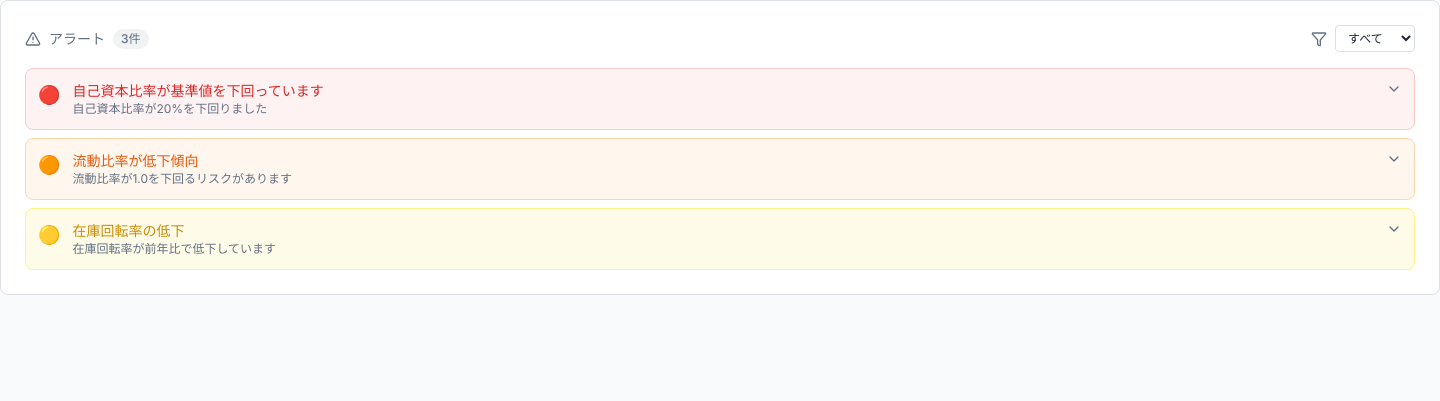
Test: AlertsList › should collapse expanded alert on second click
Click the text "自己資本比率が基準値を下回っています": (198, 90) x1=72 y1=82 x2=324 y2=99
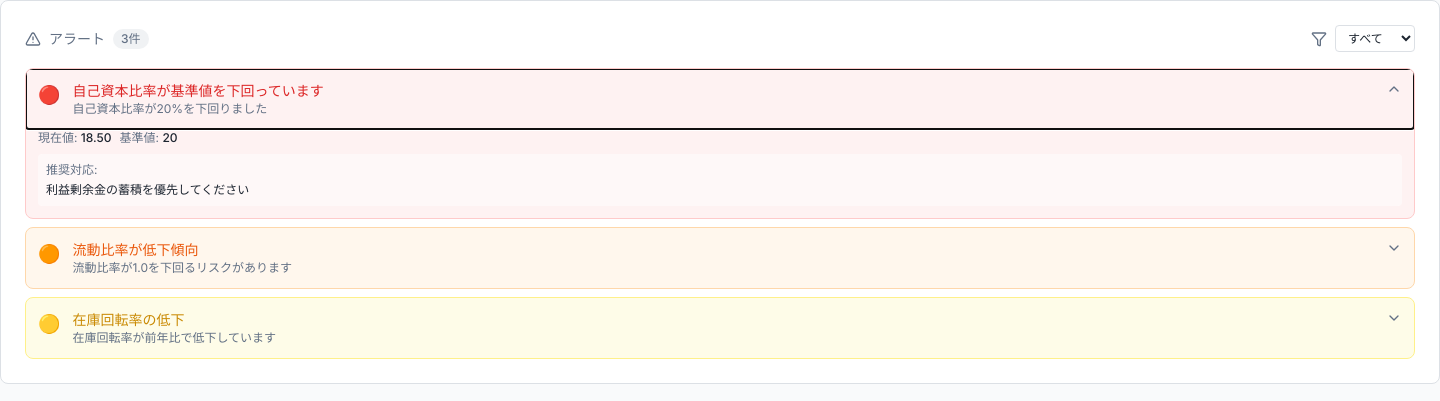
Expected: the text "推奨対応:" is shown, x1=46 y1=162 x2=98 y2=177
Click the text "自己資本比率が基準値を下回っています": (198, 90) x1=72 y1=82 x2=324 y2=99
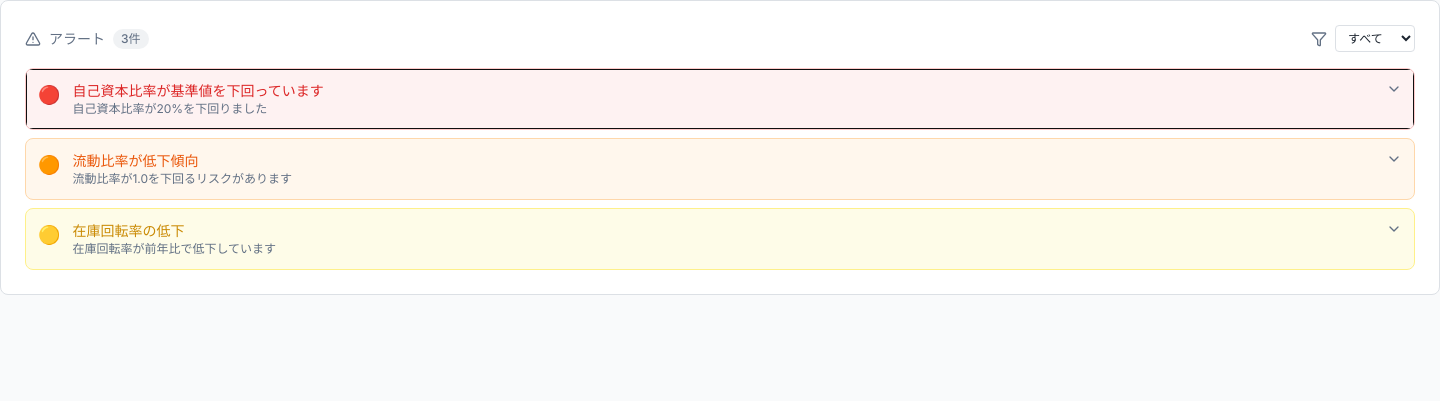
Expected: the text "推奨対応:" is gone
